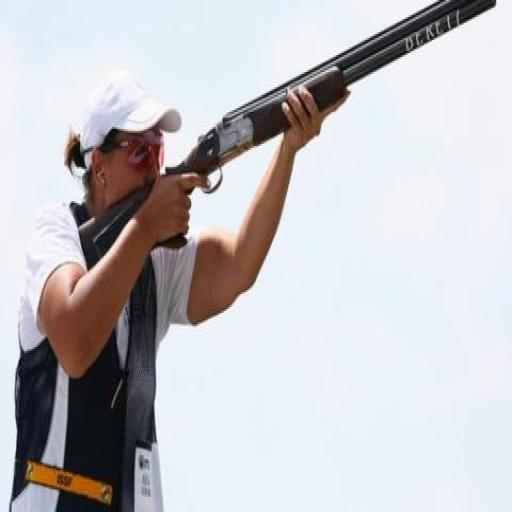shooting: (9, 66, 353, 510)
